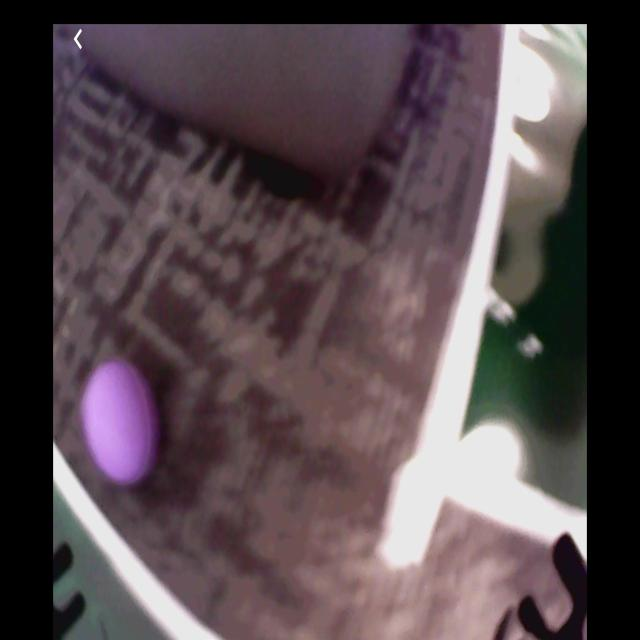ball: (83, 358, 157, 492)
